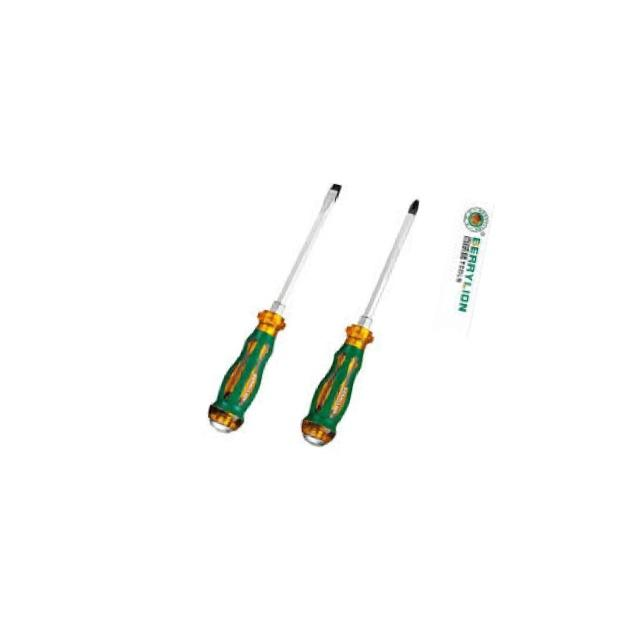screwdriver: (200, 165, 344, 448), (293, 184, 420, 458)
